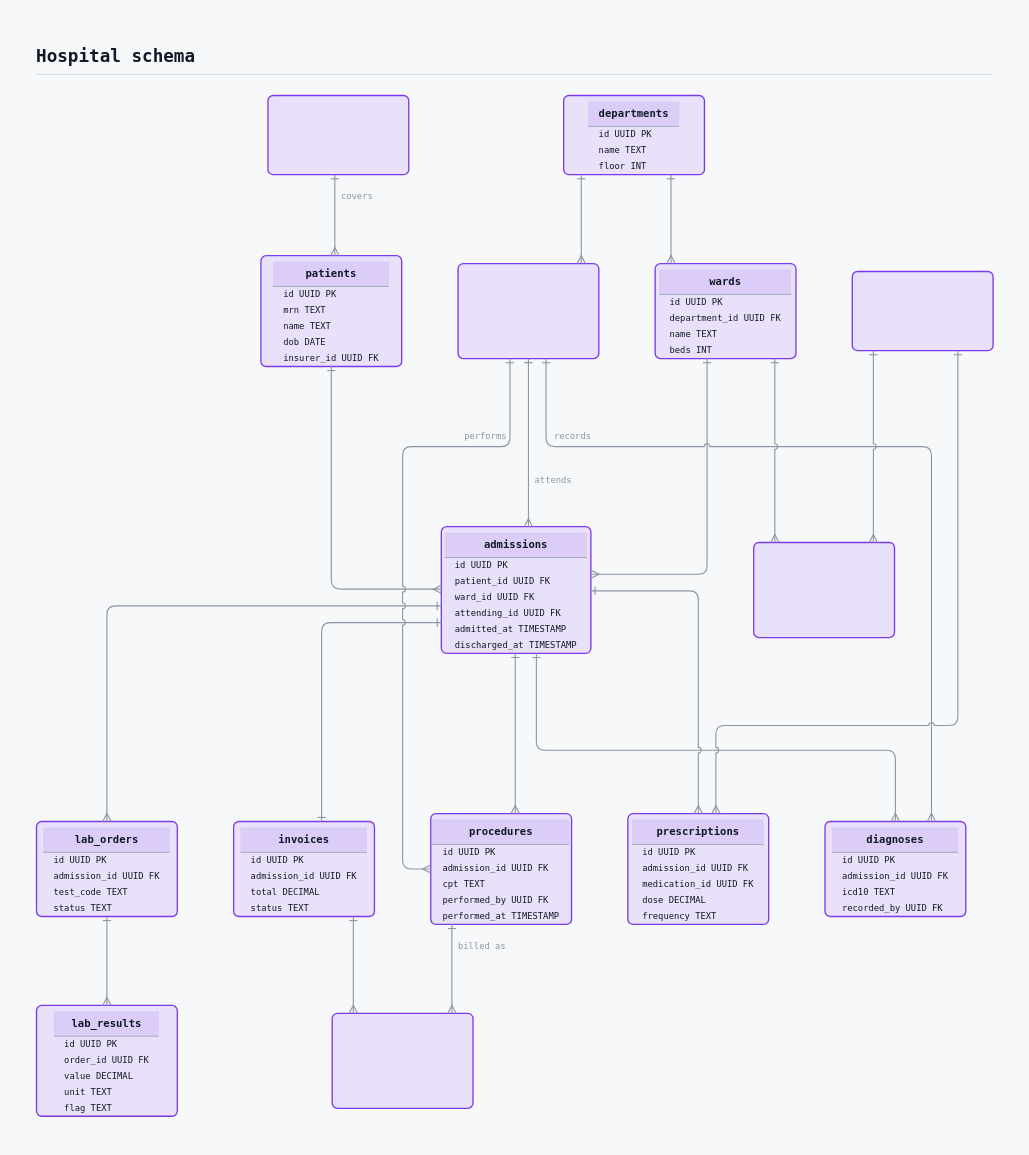
Some shapes in this 1029 by 1155 pixel diagram are drawn without their labels. Here are the shapes that lost their labels. From the top down, the box of each, then its label:
(267, 94, 409, 175): insurers id UUID PK name TEXT plan_code TEXT
(457, 263, 599, 359): staff id UUID PK name TEXT role TEXT department_id UUID FK
(851, 270, 993, 351): medications id UUID PK name TEXT unit TEXT
(753, 541, 895, 638): stock id UUID PK medication_id UUID FK ward_id UUID FK quantity INT
(331, 1012, 473, 1109): invoice_lines id UUID PK invoice_id UUID FK procedure_id UUID FK amount DECIMAL
